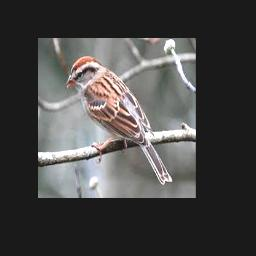Sparrow: (65, 56, 172, 185)
